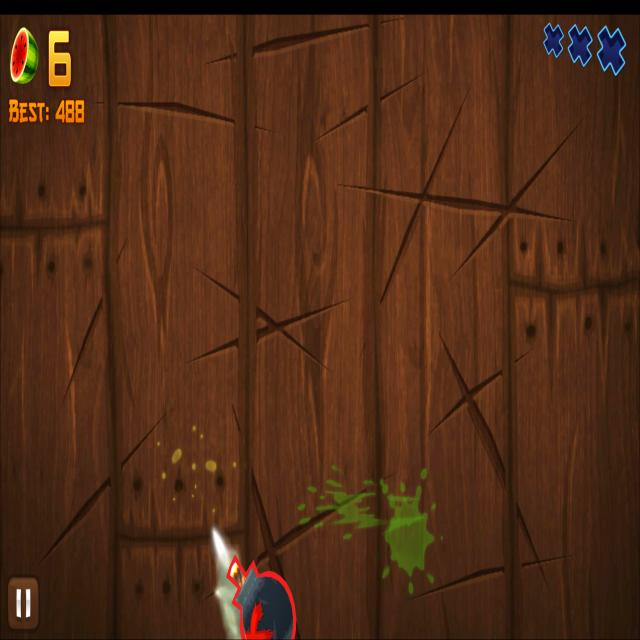bomb: (227, 554, 299, 640)
